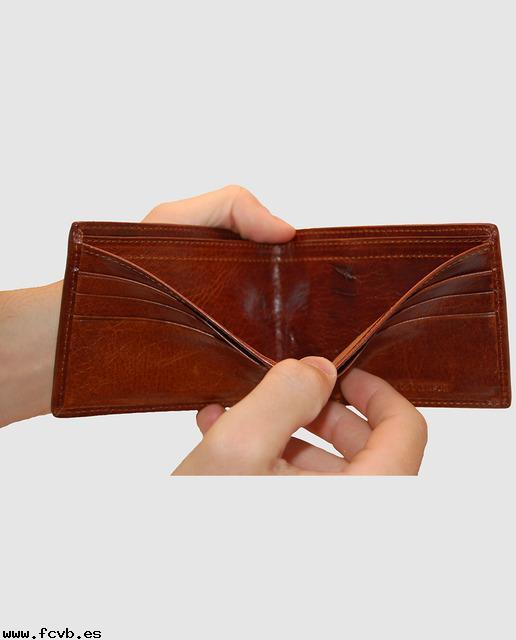monedero: (52, 219, 512, 419)
